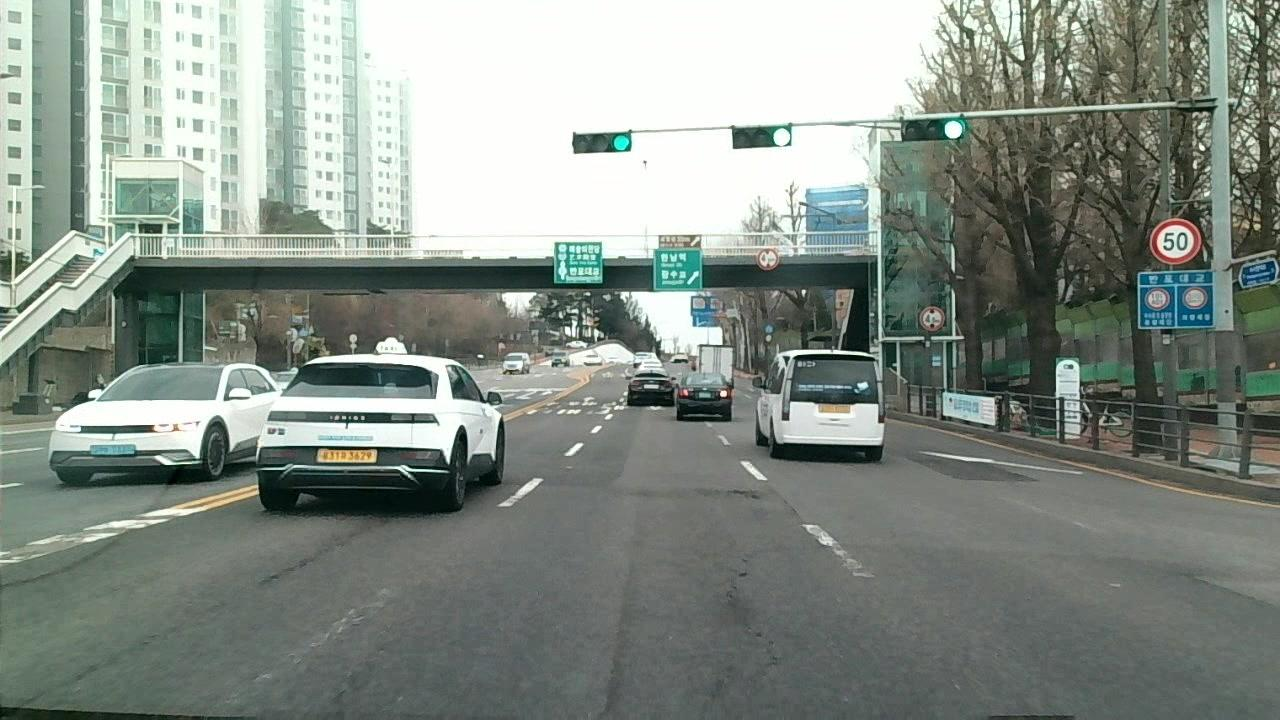vcrack: (14, 625, 167, 712), (723, 549, 780, 714), (257, 518, 379, 591), (707, 486, 763, 505)
